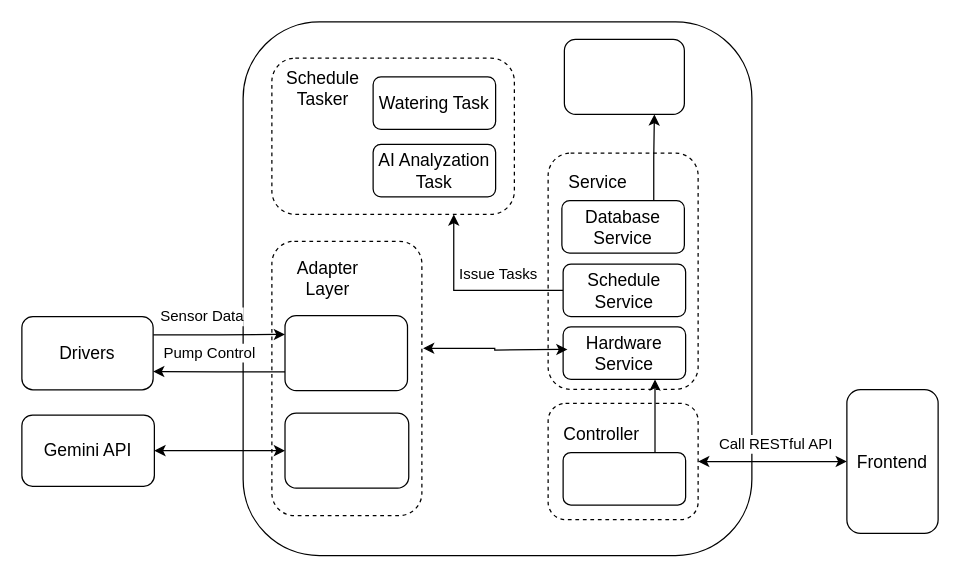
Image size: 960x578. Some labels were removed from this diagram. The shapes that lost their labels are listed below. From the top down, each one's centre as x and y in pixels, then its label:
At pixel 623 76: "SQLite".
At pixel 346 352: "Hardware Adapter".
At pixel 346 450: "AI Adapter".
At pixel 624 478: "Web API Controller".
